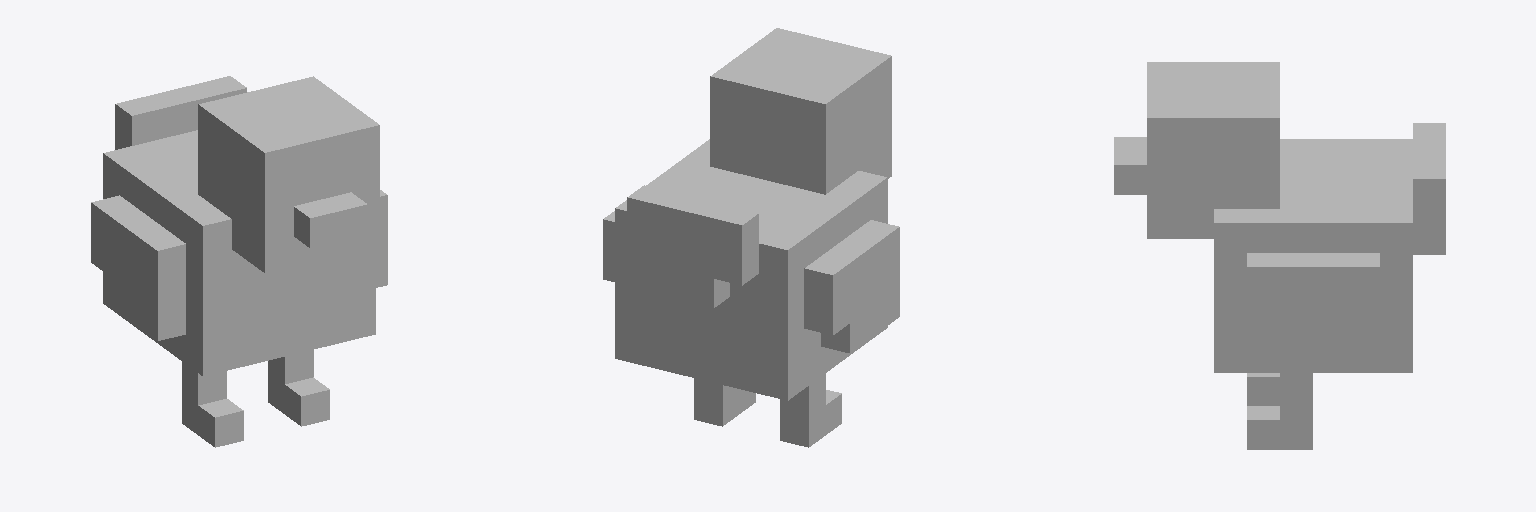
Rendered from chicken.obj.
The picture shows the model from 3 angles: view 1: azimuth 30°, elevation 25°; view 2: azimuth 150°, elevation 25°; view 3: azimuth 270°, elevation 25°; orthographic projection.
Parts seen in each view (by area): view 1: chicken; view 2: chicken; view 3: chicken.
Part boxes in pixels (x1,y1,x2,y2): chicken: (91, 76, 387, 447); chicken: (603, 28, 899, 447); chicken: (1114, 62, 1445, 449).
Bounding box in the file's own units: 8 × 11 × 10.